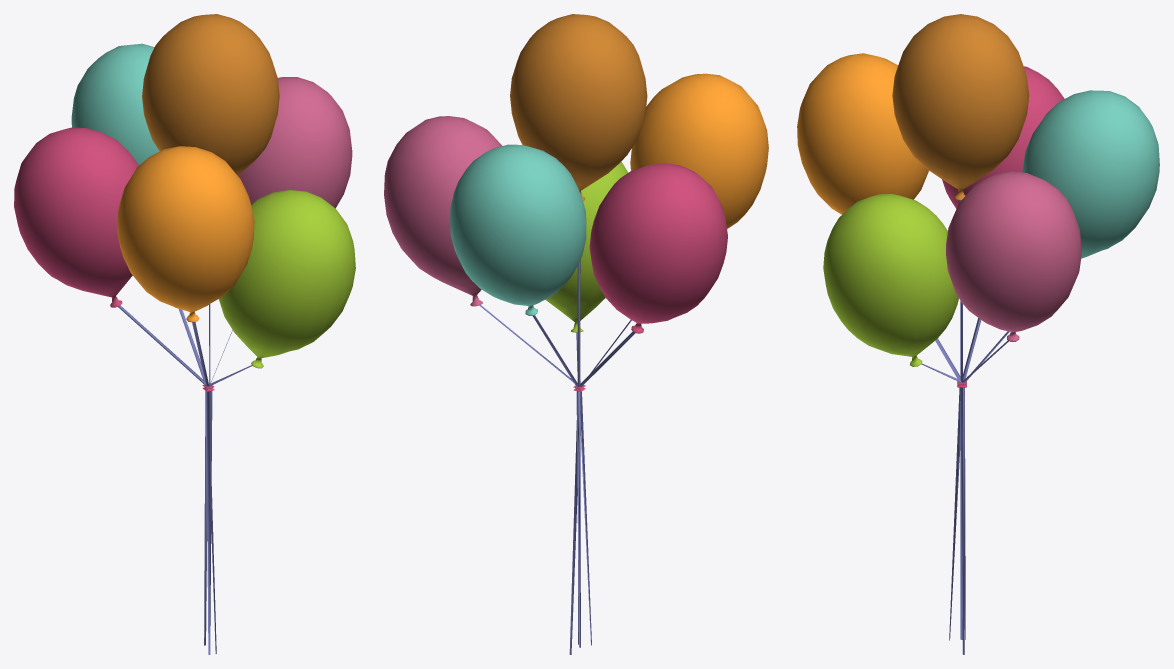
File: ballongerpastell.glb
3 renders of one model, left to right at view 1: azimuth 30°, elevation 25°; view 2: azimuth 150°, elevation 25°; view 3: azimuth 270°, elevation 25°, orthographic.
Visible parts, largest first — view 1: mesh_id7, mesh_id10, mesh_id11, mesh_id5, mesh_id9, mesh_id8, mesh_id6; view 2: mesh_id10, mesh_id5, mesh_id8, mesh_id7, mesh_id9, mesh_id6, mesh_id11; view 3: mesh_id10, mesh_id9, mesh_id11, mesh_id8, mesh_id7, mesh_id6, mesh_id5.
Part boxes in pixels (left/top/right/bottom): mesh_id7: left=117, top=146, right=254, bottom=322; mesh_id10: left=142, top=14, right=279, bottom=174; mesh_id11: left=219, top=190, right=355, bottom=368; mesh_id5: left=14, top=127, right=214, bottom=391; mesh_id9: left=237, top=77, right=352, bottom=208; mesh_id8: left=71, top=43, right=159, bottom=165; mesh_id6: left=118, top=304, right=252, bottom=654; mesh_id10: left=510, top=14, right=647, bottom=200; mesh_id5: left=573, top=163, right=727, bottom=391; mesh_id8: left=450, top=144, right=586, bottom=315; mesh_id7: left=630, top=73, right=768, bottom=228; mesh_id9: left=384, top=116, right=501, bottom=306; mesh_id6: left=479, top=260, right=635, bottom=654; mesh_id11: left=545, top=161, right=628, bottom=332; mesh_id10: left=892, top=14, right=1029, bottom=200; mesh_id9: left=946, top=171, right=1081, bottom=341; mesh_id11: left=823, top=194, right=958, bottom=366; mesh_id8: left=1022, top=90, right=1159, bottom=258; mesh_id7: left=797, top=53, right=928, bottom=214; mesh_id6: left=921, top=200, right=1009, bottom=654; mesh_id5: left=942, top=66, right=1064, bottom=387.
Size of the model in its own units: 0.2717 by 0.512 by 0.2659.
Materials: 7 (7 with a texture image).
